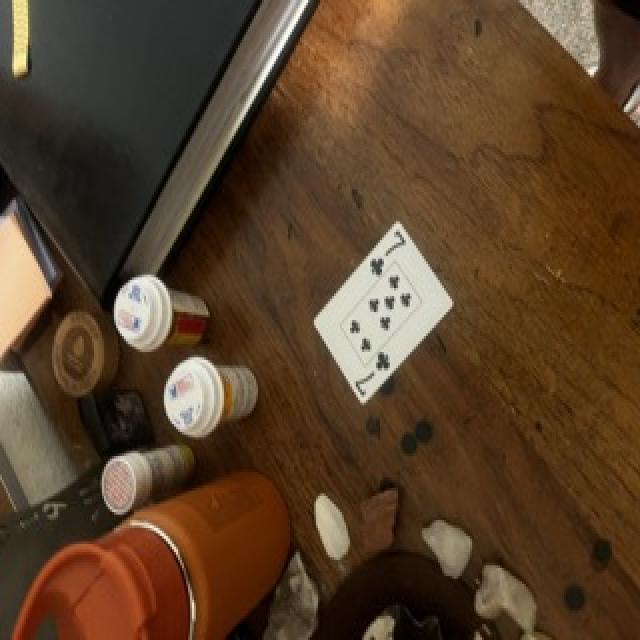7 of clubs: (315, 222, 452, 403)
